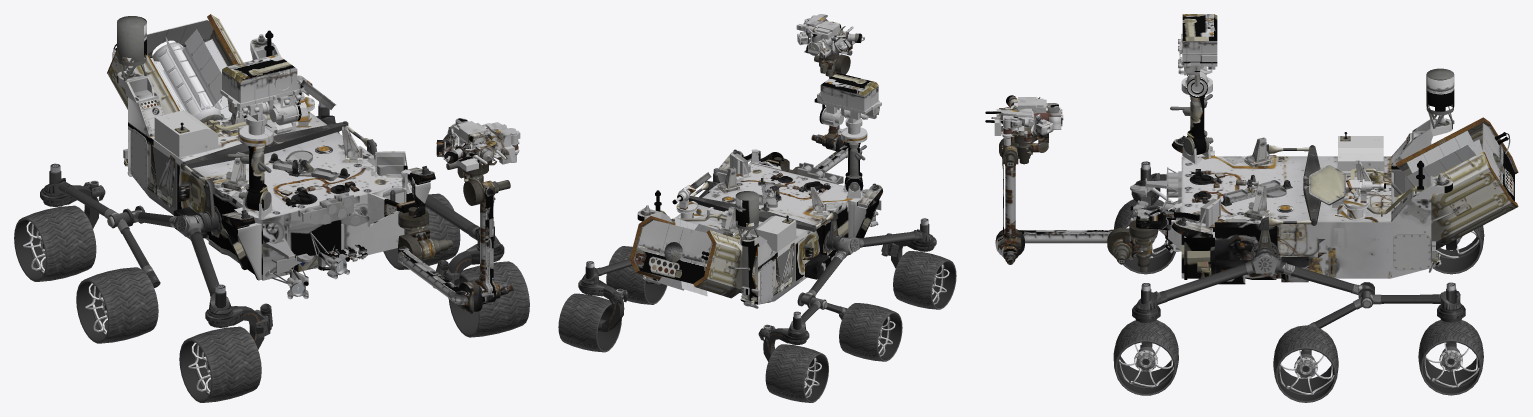
File: rover.dae
3 renders of one model, left to right at view 1: azimuth 30°, elevation 25°; view 2: azimuth 150°, elevation 25°; view 3: azimuth 270°, elevation 25°, orthographic. The views are drawn at different scales.
Parts seen in each view (by area): view 1: chassis, body, wheel_02_R, wheel_03_R, wheel_01_R, RTG, wheel_01_L, ChemCam, arm_03_001, radiators, arm_R_B2, arm_02_001 (+20 smaller); view 2: chassis, body, wheel_01_R, wheel_02_R, wheel_03_R, wheel_03_L, radiators, ChemCam, wheel_02_L, steer_L_B, RTG, antenna_UHF (+18 smaller); view 3: chassis, body, radiators, wheel_02_L, wheel_03_L, wheel_01_L, ChemCam, arm_L_B2, RTG, arm_L_F, arm_02_001, arm_03_001 (+16 smaller).
Boxes of the visible parts, x1=… form: chassis: x1=117, y1=38, x2=435, y2=280; body: x1=112, y1=19, x2=430, y2=299; wheel_02_R: x1=76, y1=267, x2=158, y2=343; wheel_03_R: x1=14, y1=205, x2=96, y2=281; wheel_01_R: x1=179, y1=326, x2=261, y2=402; RTG: x1=150, y1=29, x2=232, y2=122; wheel_01_L: x1=448, y1=261, x2=529, y2=337; ChemCam: x1=220, y1=54, x2=304, y2=107; arm_03_001: x1=463, y1=179, x2=510, y2=301; radiators: x1=107, y1=14, x2=243, y2=114; arm_R_B2: x1=43, y1=163, x2=160, y2=287; arm_02_001: x1=398, y1=246, x2=514, y2=313; chassis: x1=637, y1=150, x2=882, y2=304; body: x1=634, y1=149, x2=881, y2=283; wheel_01_R: x1=893, y1=251, x2=956, y2=309; wheel_02_R: x1=839, y1=303, x2=902, y2=361; wheel_03_R: x1=765, y1=344, x2=828, y2=402; wheel_03_L: x1=558, y1=293, x2=621, y2=352; radiators: x1=629, y1=216, x2=742, y2=298; ChemCam: x1=814, y1=73, x2=881, y2=114; wheel_02_L: x1=606, y1=246, x2=667, y2=304; steer_L_B: x1=578, y1=280, x2=628, y2=331; RTG: x1=658, y1=218, x2=723, y2=296; antenna_UHF: x1=735, y1=191, x2=758, y2=241; chassis: x1=1171, y1=118, x2=1452, y2=279; body: x1=1130, y1=115, x2=1514, y2=284; radiators: x1=1395, y1=117, x2=1518, y2=252; wheel_02_L: x1=1273, y1=325, x2=1338, y2=402; wheel_03_L: x1=1418, y1=320, x2=1483, y2=395; wheel_01_L: x1=1113, y1=320, x2=1178, y2=395; ChemCam: x1=1179, y1=14, x2=1217, y2=66; arm_L_B2: x1=1301, y1=282, x2=1461, y2=351; RTG: x1=1406, y1=130, x2=1499, y2=186; arm_L_F: x1=1135, y1=254, x2=1273, y2=311; arm_02_001: x1=995, y1=228, x2=1113, y2=264; arm_03_001: x1=998, y1=138, x2=1021, y2=250.
Size of the model in its own units: 2.78 by 2.21 by 3.94.
8 materials, 7 textured.
